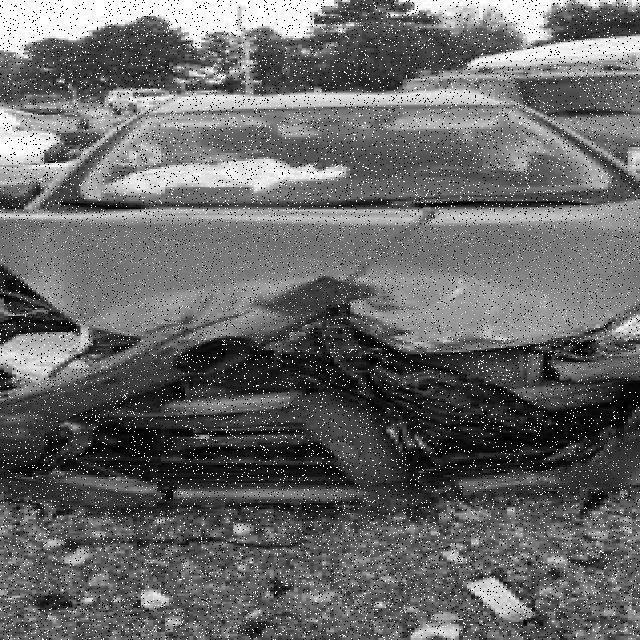bonnet-dent: (8, 193, 636, 332)
front-bumper-dent: (0, 332, 636, 513)
